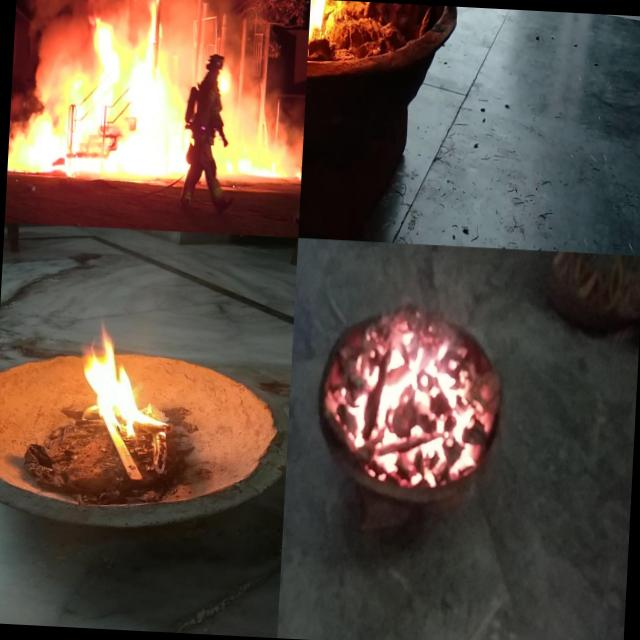fire: (336, 316, 506, 478), (74, 323, 184, 442), (120, 54, 182, 176), (72, 12, 131, 137), (8, 98, 76, 173), (70, 133, 126, 178), (224, 153, 302, 185), (215, 59, 236, 98)
smoke: (230, 22, 286, 154), (16, 0, 249, 21), (28, 10, 78, 101), (280, 68, 307, 156)
